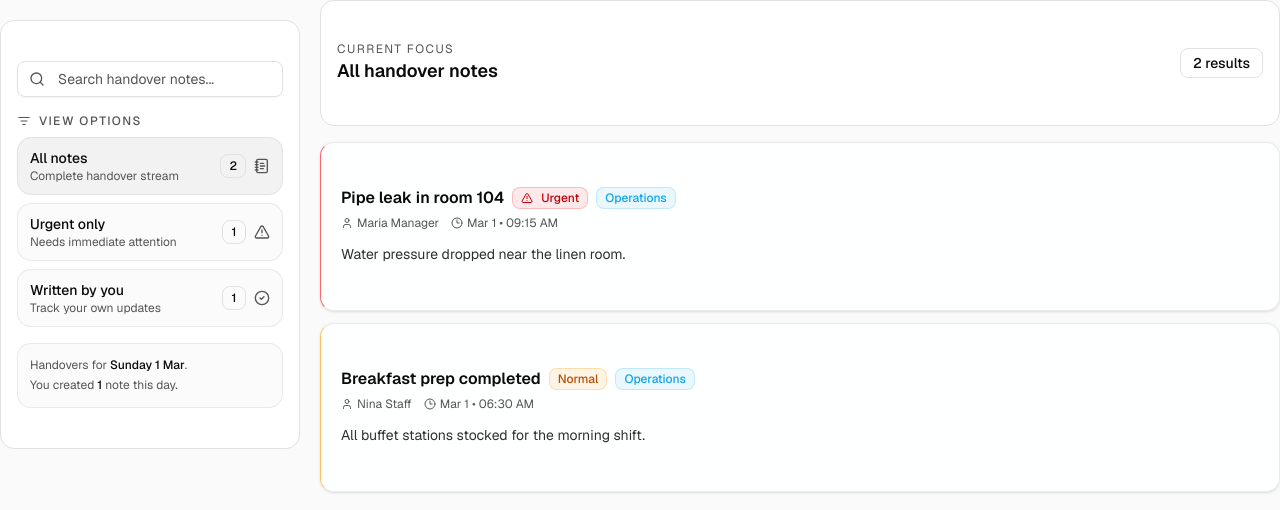
Test case: NotesList › switches between urgent and mine filters
Later steps or results of the test are not shown.
Click the button "Urgent only Needs immediate attention 1". click: (150, 232)
box: [17,203,283,261]
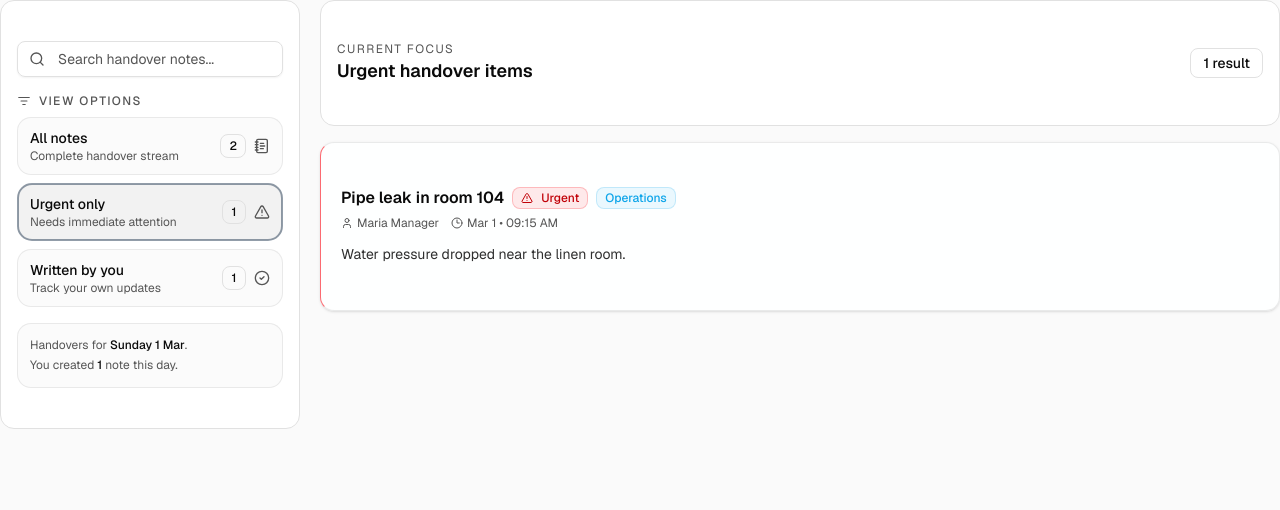
Expected: the heading "Pipe leak in room 104" is shown, [341,188,504,208]
Expected: the heading "Breakfast prep completed" is gone
